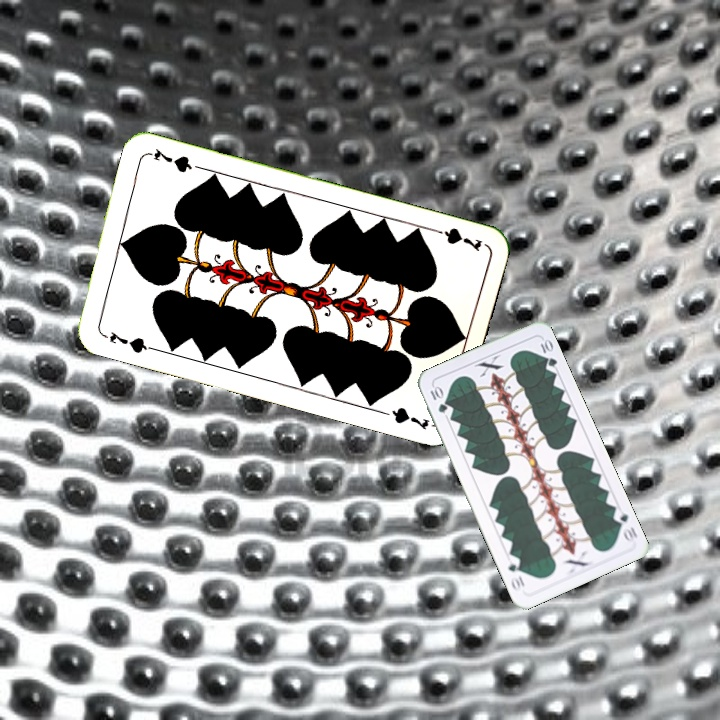G10: (609, 505, 640, 545), (426, 382, 450, 416)
G7: (427, 223, 485, 254), (97, 327, 156, 356)
